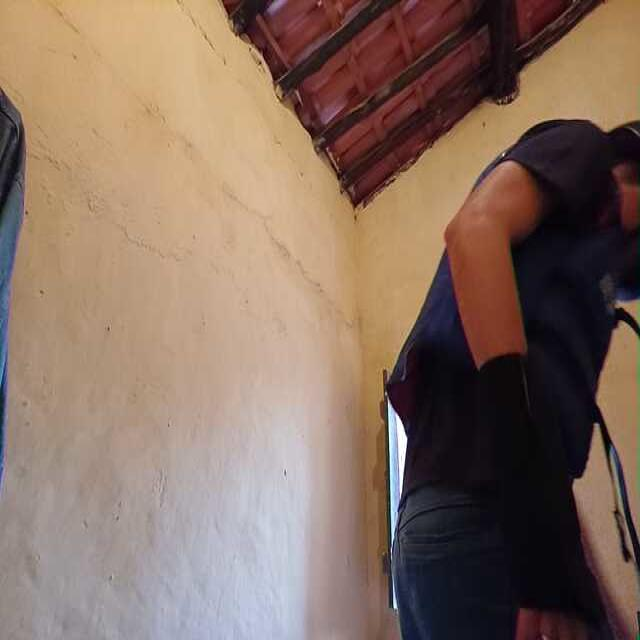capacete: (607, 119, 640, 298)
colete: (397, 141, 610, 462)
pessoa: (387, 120, 640, 640)
